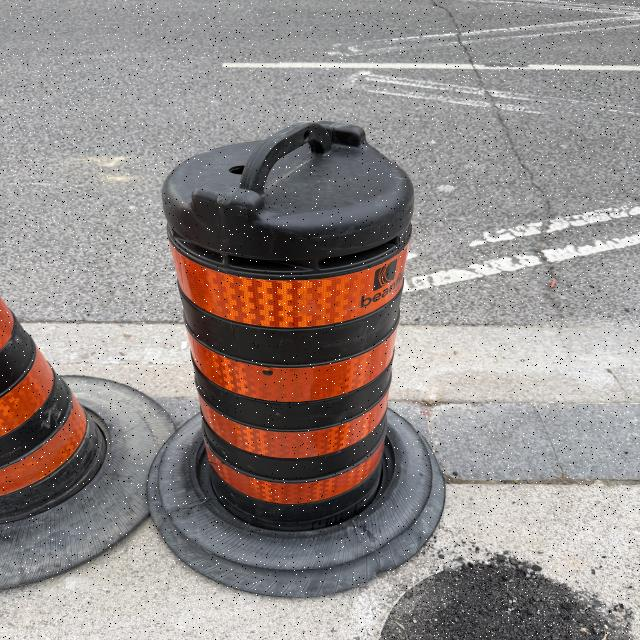Teraffic Barrel: (148, 122, 444, 596), (0, 299, 173, 588)
